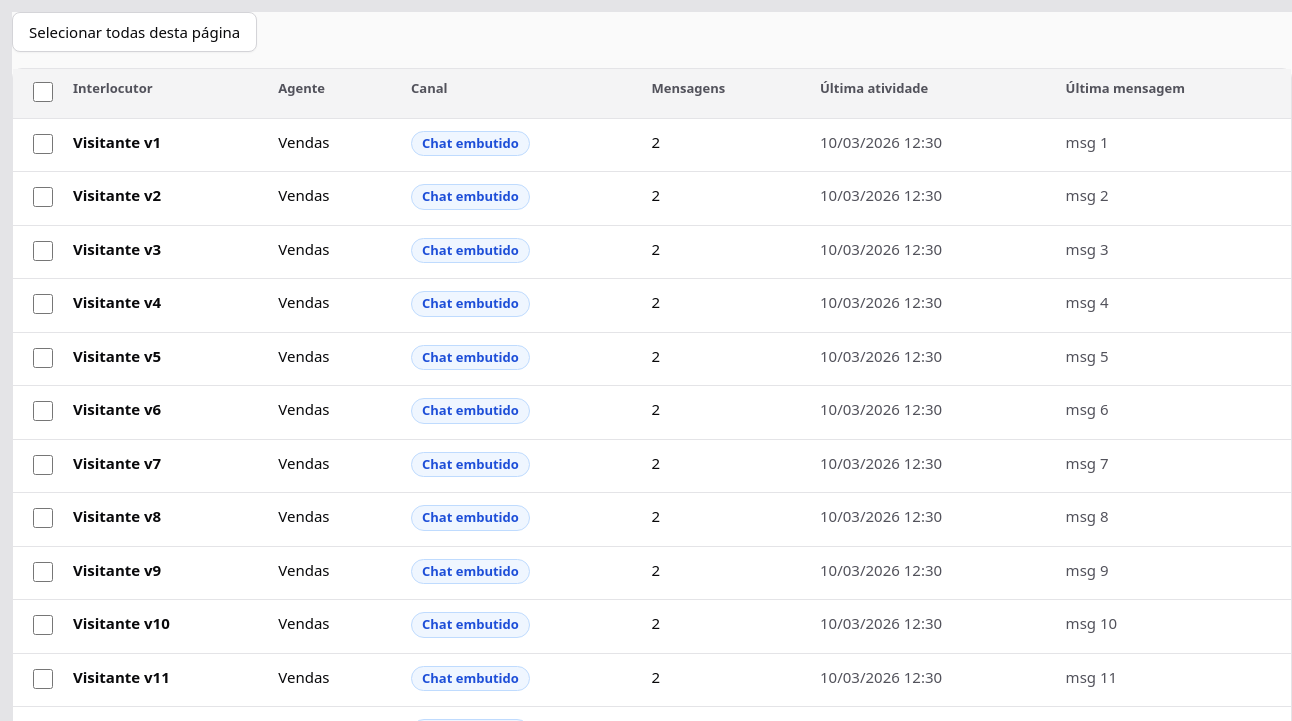
Test: lote (funcional) › selecionar todas de uma página de 60 respeita o limite de 50 e avisa
Click the checkbox named "Selecionar todas as conversas desta página" at [43, 92], box [33, 82, 53, 102]
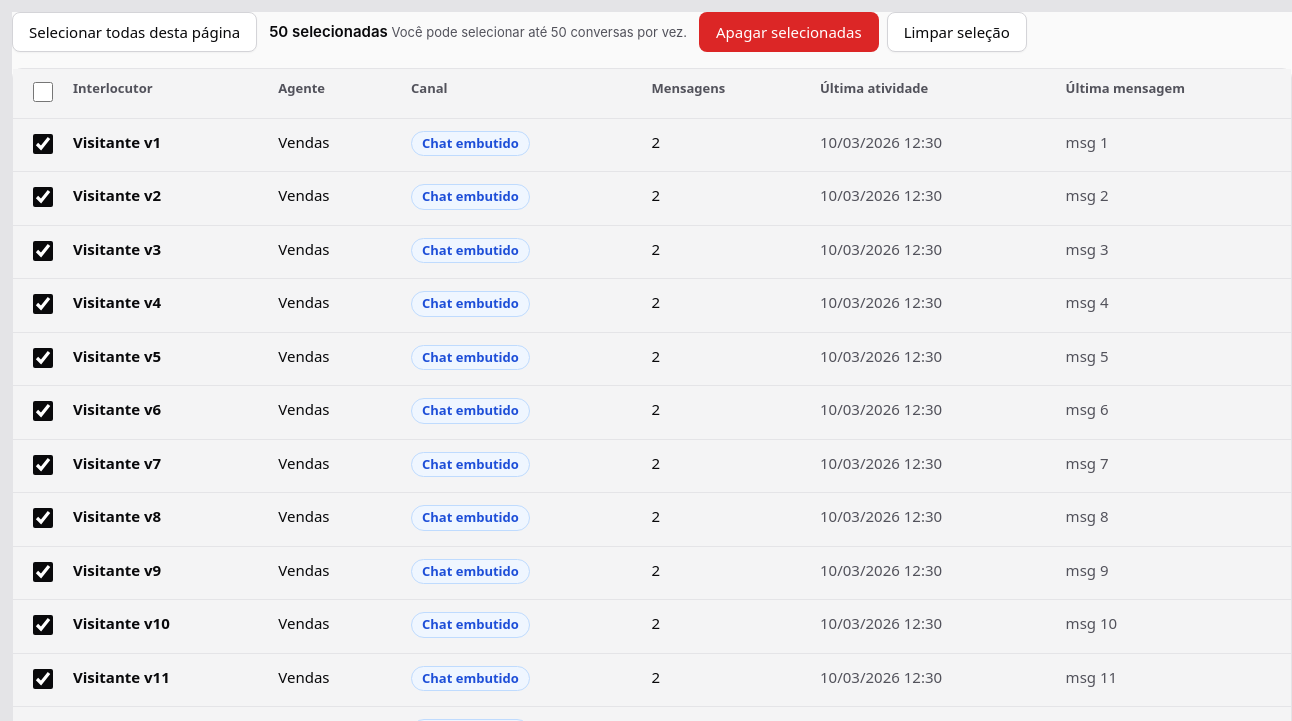
Now the text "50 selecionadas" is shown, box [269, 22, 388, 41]
Now the text "até 50" is shown, box [391, 24, 687, 40]
Click the button "Limpar seleção" at [957, 32], box [887, 12, 1027, 52]
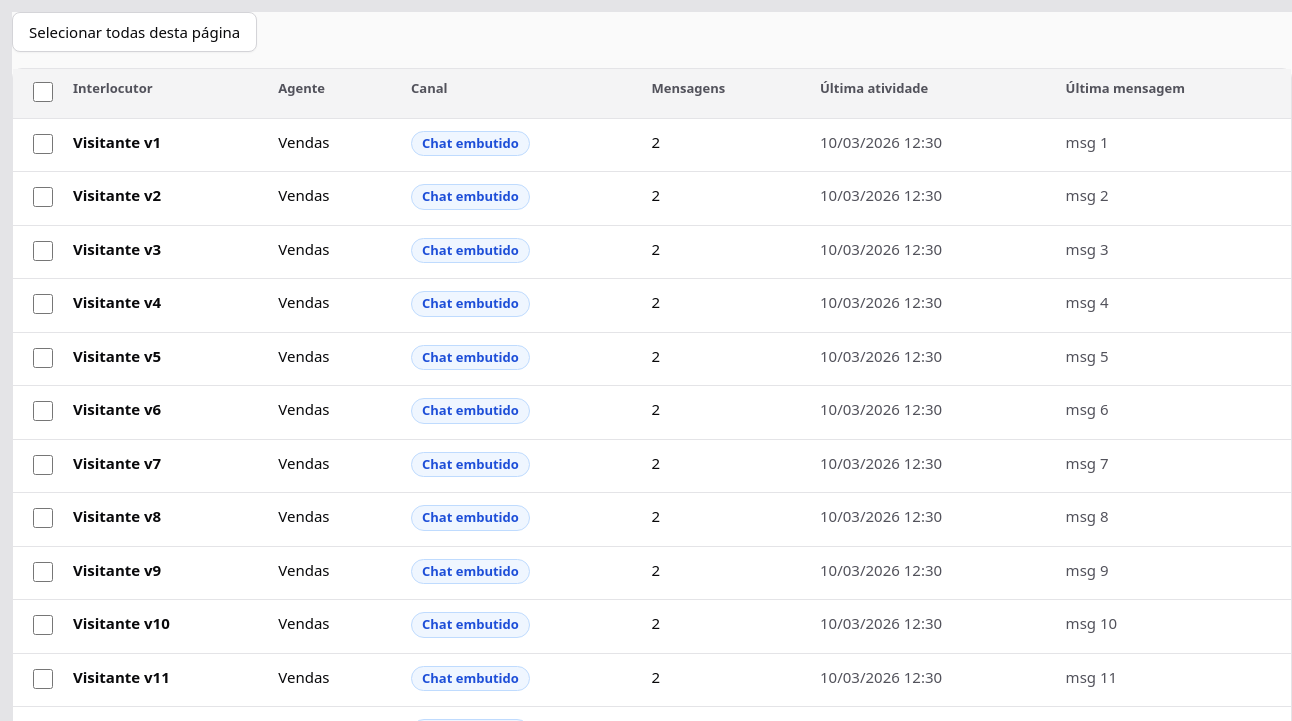
Now the text "selecionadas" is gone
